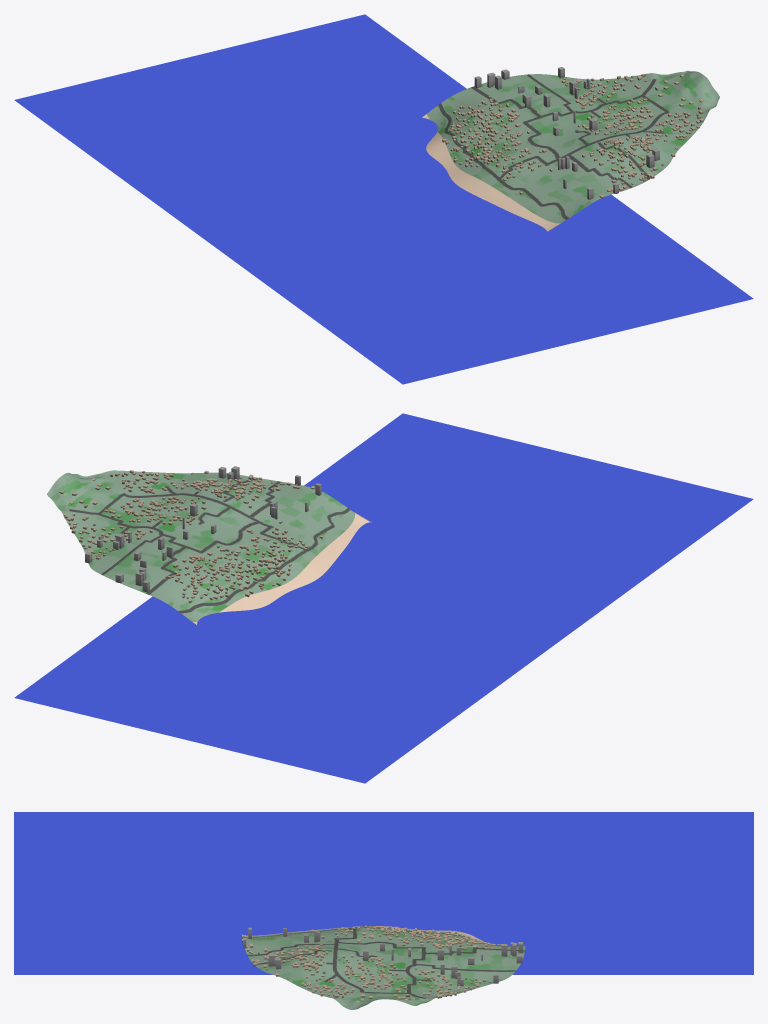
The model's file is mid_city.fbx.
3 renders of one model, top to bottom at view 1: azimuth 30°, elevation 25°; view 2: azimuth 150°, elevation 25°; view 3: azimuth 270°, elevation 25°, orthographic. The views are drawn at different scales.
Visible parts, largest first — view 1: Plane.001, Plane.002; view 2: Plane.001, Plane.002; view 3: Plane.001, Plane.002.
Part boxes in pixels (x1=…): Plane.001: x1=14, y1=14, x2=753, y2=384; Plane.002: x1=422, y1=70, x2=719, y2=231; Plane.001: x1=14, y1=413, x2=753, y2=783; Plane.002: x1=47, y1=470, x2=371, y2=624; Plane.001: x1=14, y1=812, x2=753, y2=974; Plane.002: x1=242, y1=926, x2=525, y2=1009.
Bounding box in the file's own units: 865 × 95.39 × 1173.
Materials: 5 (3 with a texture image).
